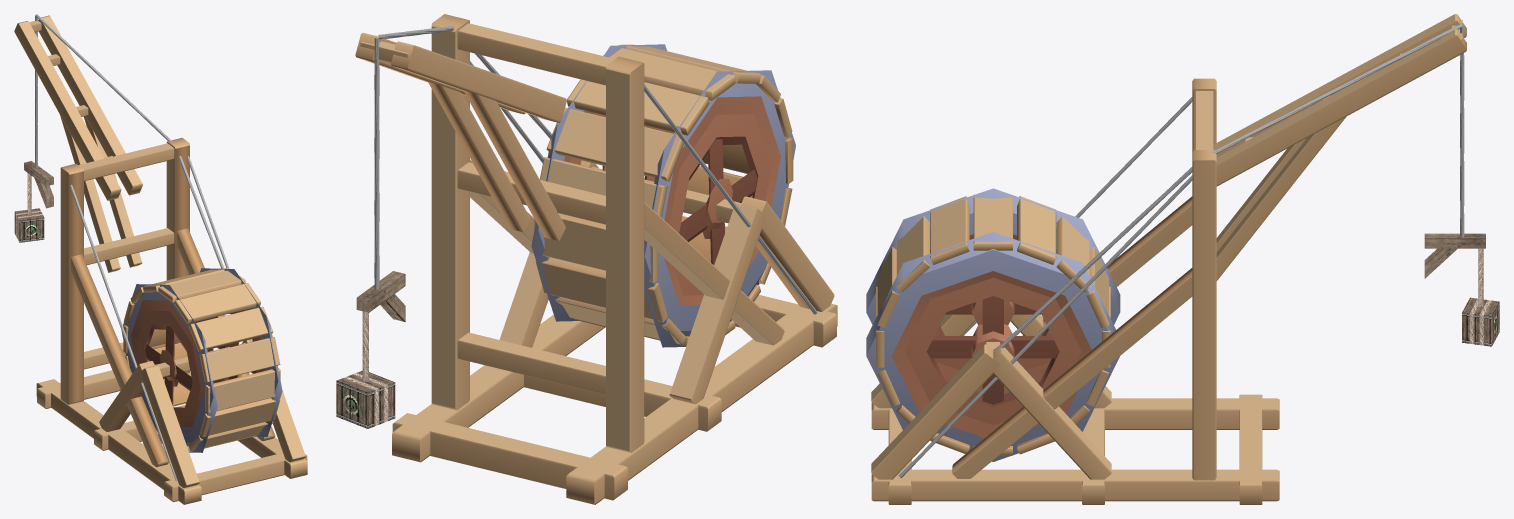
File: london-wooden-crane-derived.glb
The picture shows the model from 3 angles, left to right: view 1: azimuth 30°, elevation 25°; view 2: azimuth 150°, elevation 25°; view 3: azimuth 270°, elevation 25°; orthographic projection. The views are drawn at different scales.
Visible parts, largest first — view 1: wheel_side_-0.72, mast_-1.18, mast_brace_-1.18, ground_sill_-1.18, jib_-0.24, jib_0.24, mast_1.18, axle_frame_back_-1.18, sill_cross_2.7, tread_3, tread_2, tread_1 (+24 smaller); view 2: wheel_side_-0.72, mast_-1.18, mast_1.18, ground_sill_-1.18, sill_cross_-2.2, axle_frame_front_-1.18, ground_sill_1.18, jib_-0.24, suspended_pulley_crate, mast_brace_-1.18, mast_cross_5.1, mast_cross_1.1 (+23 smaller); view 3: wheel_side_0.72, ground_sill_1.18, mast_1.18, jib_0.24, mast_brace_1.18, ground_sill_-1.18, wheel_side_-0.72, axle_frame_back_1.18, axle_frame_front_1.18, suspended_pulley_crate, jib_brace_0.24, jib_-0.24 (+21 smaller).
Boxes of the visible parts, x1,y1,x2,y2 form: wheel_side_-0.72: [121, 284, 217, 452]; mast_-1.18: [60, 163, 83, 404]; mast_brace_-1.18: [71, 254, 168, 466]; ground_sill_-1.18: [36, 379, 201, 504]; jib_-0.24: [14, 21, 121, 200]; jib_0.24: [38, 15, 142, 195]; mast_1.18: [166, 138, 189, 373]; axle_frame_back_-1.18: [139, 365, 199, 488]; sill_cross_2.7: [164, 453, 307, 502]; tread_3: [199, 337, 280, 382]; tread_2: [188, 306, 273, 351]; tread_1: [174, 283, 260, 323]; wheel_side_-0.72: [644, 70, 795, 347]; mast_-1.18: [606, 56, 644, 452]; mast_1.18: [431, 14, 469, 410]; ground_sill_-1.18: [566, 303, 837, 504]; sill_cross_-2.2: [392, 413, 627, 500]; axle_frame_front_-1.18: [669, 203, 766, 404]; ground_sill_1.18: [392, 314, 604, 462]; jib_-0.24: [391, 41, 566, 122]; suspended_pulley_crate: [336, 271, 405, 428]; mast_brace_-1.18: [644, 202, 784, 345]; mast_cross_5.1: [457, 23, 614, 85]; mast_cross_1.1: [457, 332, 605, 394]; wheel_side_0.72: [866, 232, 1119, 461]; ground_sill_1.18: [871, 469, 1279, 501]; mast_1.18: [1192, 150, 1216, 480]; jib_0.24: [1216, 29, 1466, 186]; mast_brace_1.18: [952, 268, 1192, 478]; ground_sill_-1.18: [871, 398, 1279, 429]; wheel_side_-0.72: [866, 188, 1120, 394]; axle_frame_back_1.18: [871, 344, 999, 479]; axle_frame_front_1.18: [991, 344, 1111, 479]; suspended_pulley_crate: [1424, 233, 1499, 346]; jib_brace_0.24: [1216, 117, 1345, 280]; jib_-0.24: [1213, 14, 1466, 156].
Size of the model in its own units: 3 by 6.78 by 8.85.
6 materials, 5 textured.
